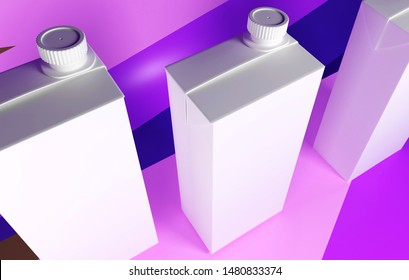carton: (159, 5, 329, 259)
